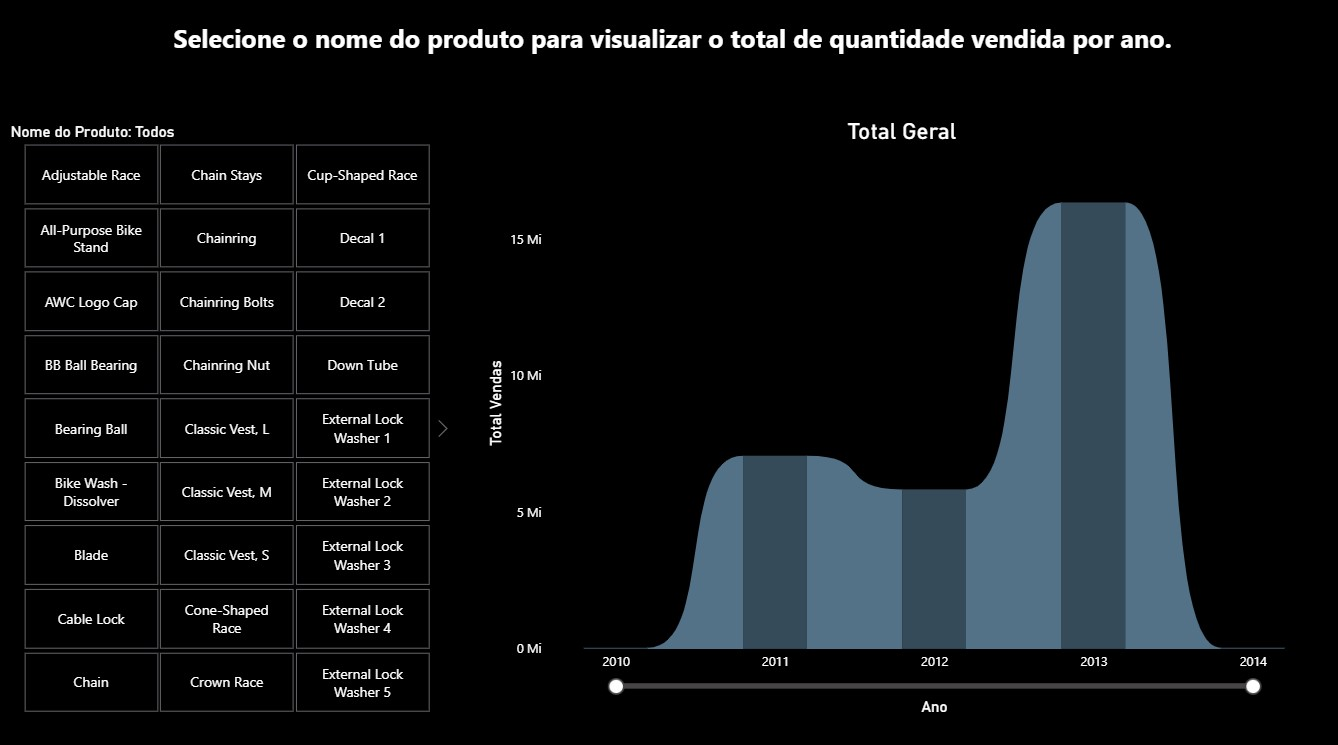

The page's visual inventory and layout, read from the dashboard file:
{"tool":"powerbi","page":{"name":"4. Evolução Anual de Vendas por Produto","canvas":[1280,720],"ordinal":4},"visuals":[{"type":"ribbonChart","fields":{"Category":["TB_VENDAS.Data_Pedido.Variation.Hierarquia de datas.Ano"],"Y":["Medidas.TotalVendas"]},"box":[462.1,118.2,799.9,573.1],"z":0},{"type":"slicer","fields":{"Values":["TB_PRODUTO.Nome_Produto"]},"box":[0,117.9,435.7,572.6],"z":1000},{"type":"textbox","box":[162.9,21.7,1000.1,72.4],"z":2000}]}

Visuals, with their boxes in screenshot pixels (x1, y1, x2, y2), scaled from the page's 1280x720 canvas onto the 1338x745 screenshot:
ribbonChart - TB_VENDAS.Data_Pedido.Variation.Hierarquia de datas.Ano x Medidas.TotalVendas: region(483, 122, 1319, 715)
slicer - TB_PRODUTO.Nome_Produto: region(0, 122, 455, 714)
textbox: region(170, 22, 1216, 97)
